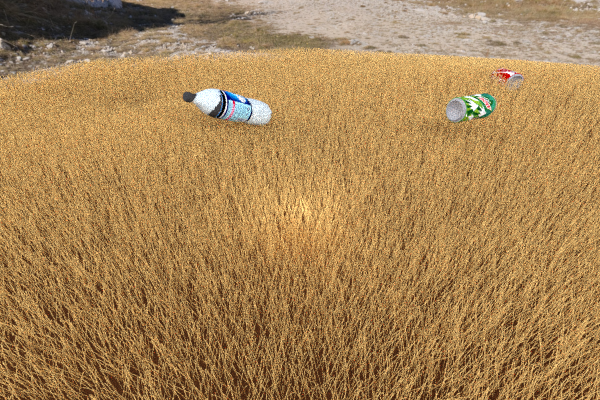bottle: (182, 88, 272, 125)
can: (445, 93, 496, 122), (489, 67, 523, 91)
